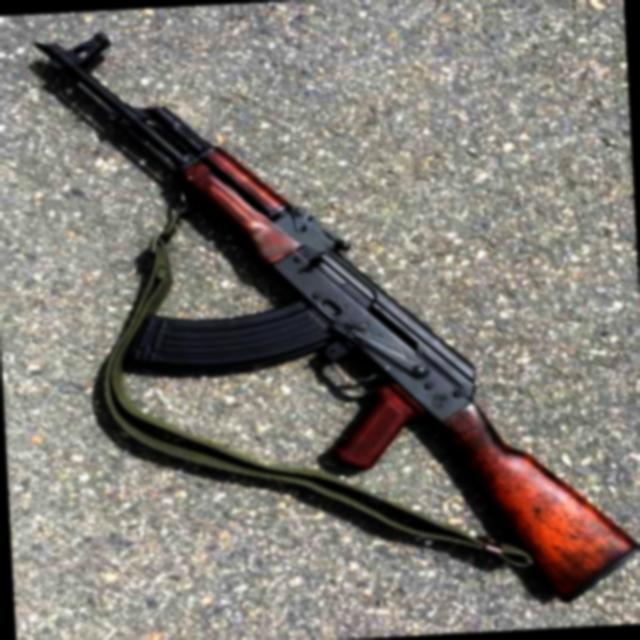ak: (23, 6, 631, 634)
